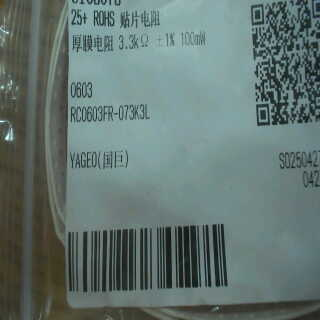3.3kO: (115, 29, 153, 53)
